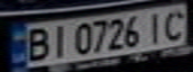0: (69, 19, 93, 55)
2: (106, 15, 127, 52)
6: (121, 12, 148, 48)
7: (90, 17, 112, 53)
B: (21, 25, 54, 62)
C: (157, 7, 190, 42)
I: (45, 22, 72, 58), (142, 9, 169, 44)
